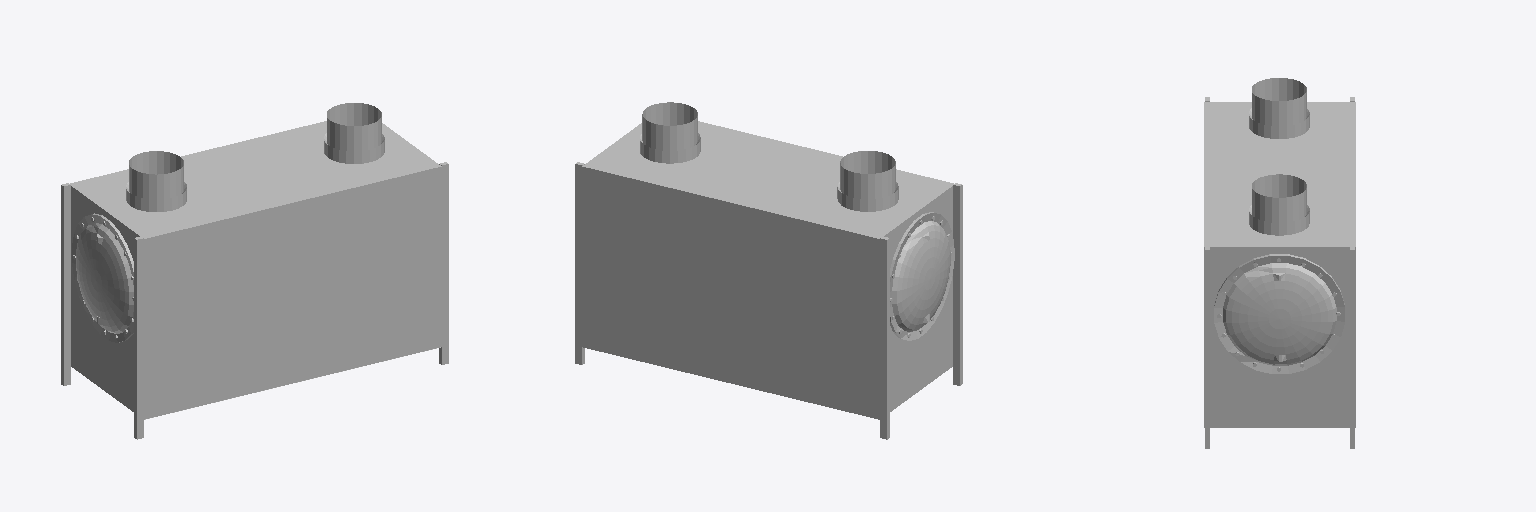
Rendered from boiler_blender3.obj.
3 views of the same model, side by side, from view 1: azimuth 30°, elevation 25°; view 2: azimuth 150°, elevation 25°; view 3: azimuth 270°, elevation 25° (orthographic).
Visible parts, largest first — view 1: Mesh_none; view 2: Mesh_none; view 3: Mesh_none.
Part boxes in pixels (x1,y1,x2,y2): Mesh_none: (61,103,448,439); Mesh_none: (575,102,962,439); Mesh_none: (1204,78,1355,448).
Size of the model in its own units: 17.97 by 12.57 by 7.3.